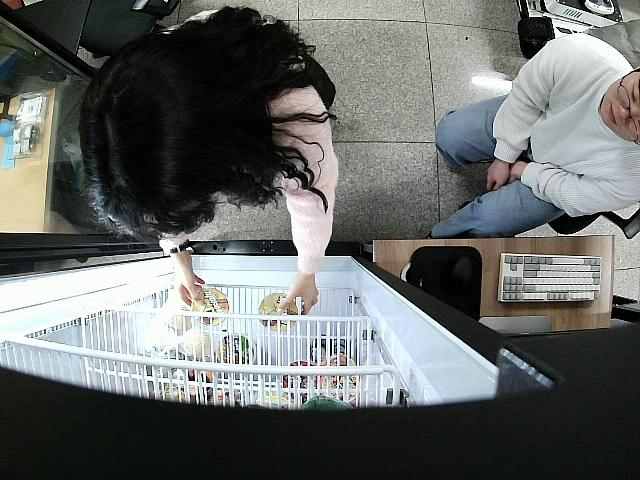00_hand: (277, 274, 319, 315), (173, 266, 208, 308), (485, 159, 510, 191)
04_chapagetti_S: (190, 286, 230, 326), (257, 294, 296, 333)
